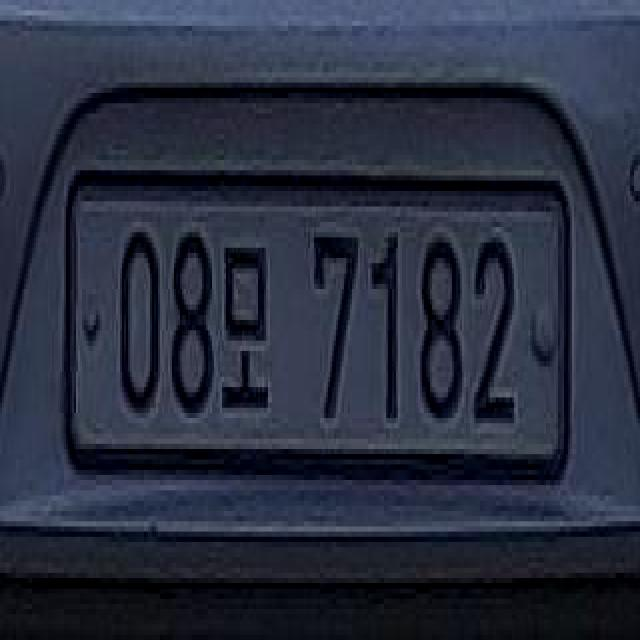illegal_plate: (67, 153, 571, 500)
